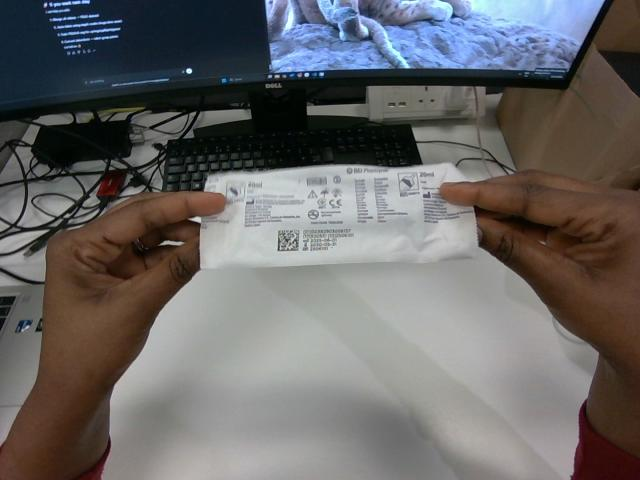syringe: (200, 163, 477, 267)
